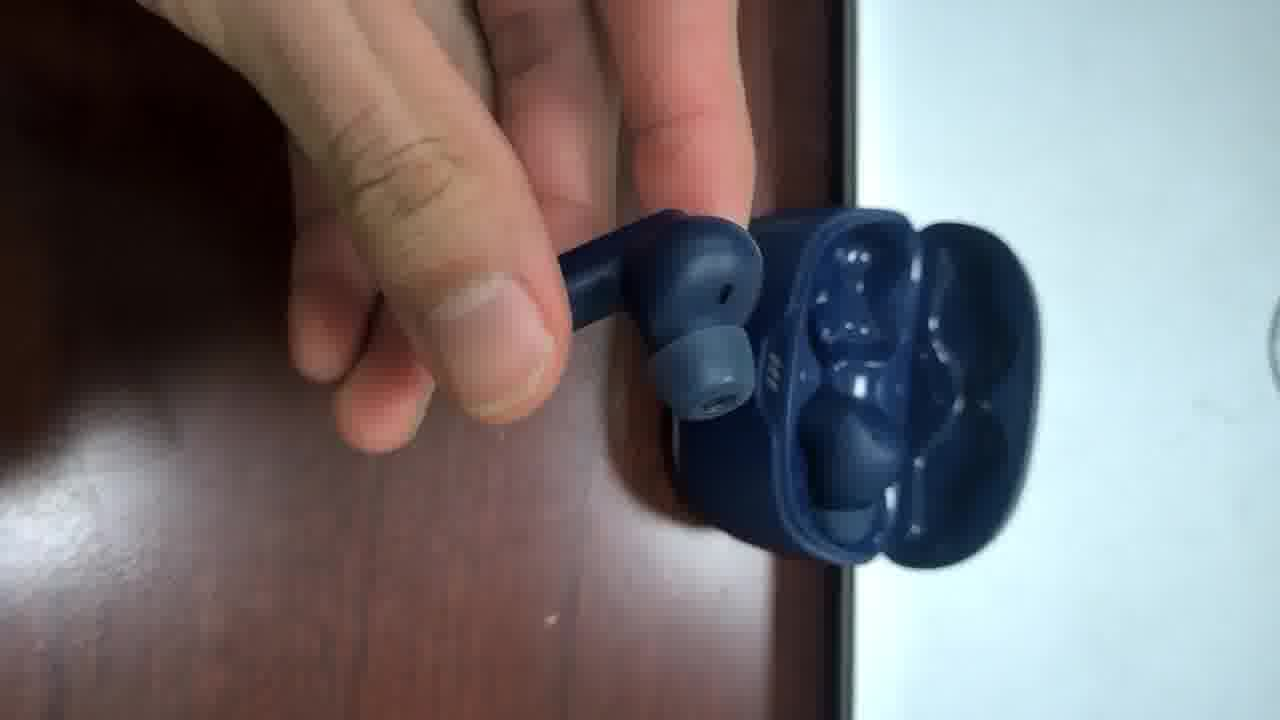Earbud: (559, 211, 761, 419), (795, 385, 907, 541)
Empty_Slot: (814, 220, 920, 366)
